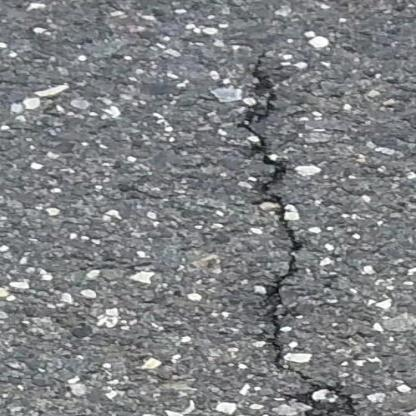Cracks: (214, 52, 385, 416)
